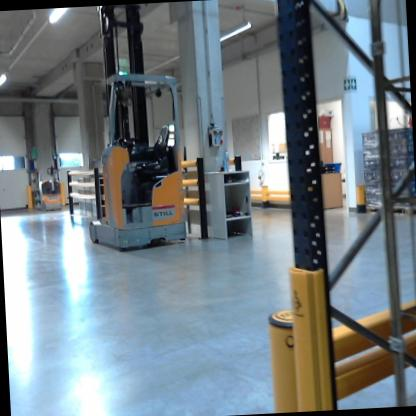forklift: (69, 4, 191, 249)
pallet_truck: (31, 156, 73, 216)
